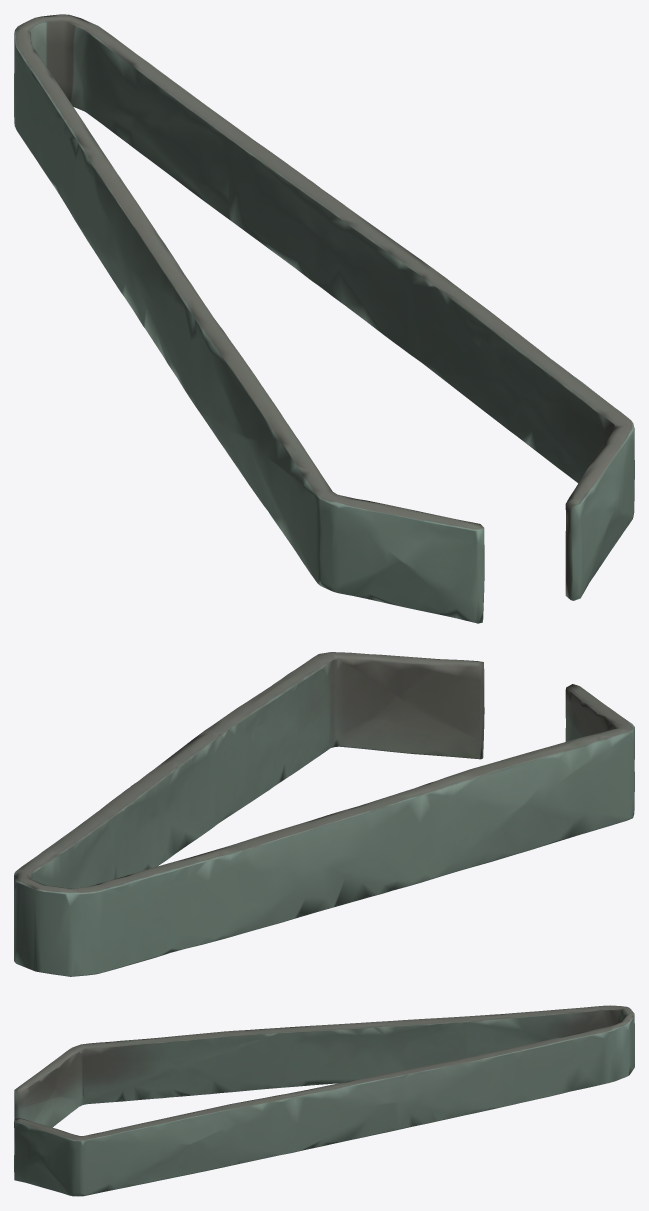
Rendered from tweezers.obj.
3 renders of one model, top to bottom at view 1: azimuth 30°, elevation 25°; view 2: azimuth 150°, elevation 25°; view 3: azimuth 270°, elevation 25°, orthographic. The views are drawn at different scales.
Parts seen in each view (by area): view 1: meshes[0]; view 2: meshes[0]; view 3: meshes[0].
Part boxes in pixels (box(x1,y1,x2,y2)): meshes[0]: box(14, 14, 634, 623); meshes[0]: box(14, 652, 634, 976); meshes[0]: box(14, 1005, 634, 1196).
Size of the model in its own units: 0.3618 by 0.263 by 0.9777.
Materials: 1 (1 with a texture image).
